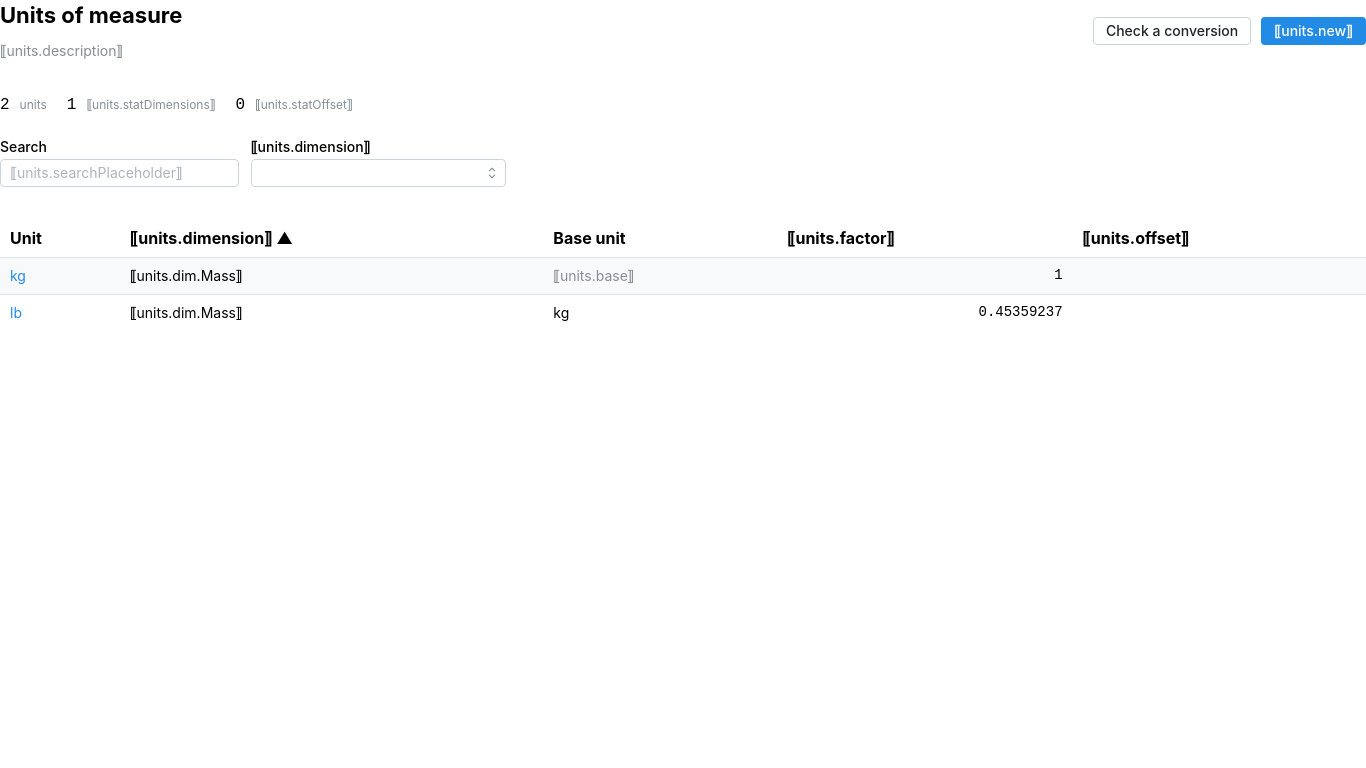
Test: UnitsPage: видалення одиниці (BE-15) › діалог називає одиницю, фокус на «Cancel», і перевірка видима, а не порожнеча (X-23)
Click the button "lb".
click(16, 313)  # box x1=10 y1=303 x2=22 y2=323
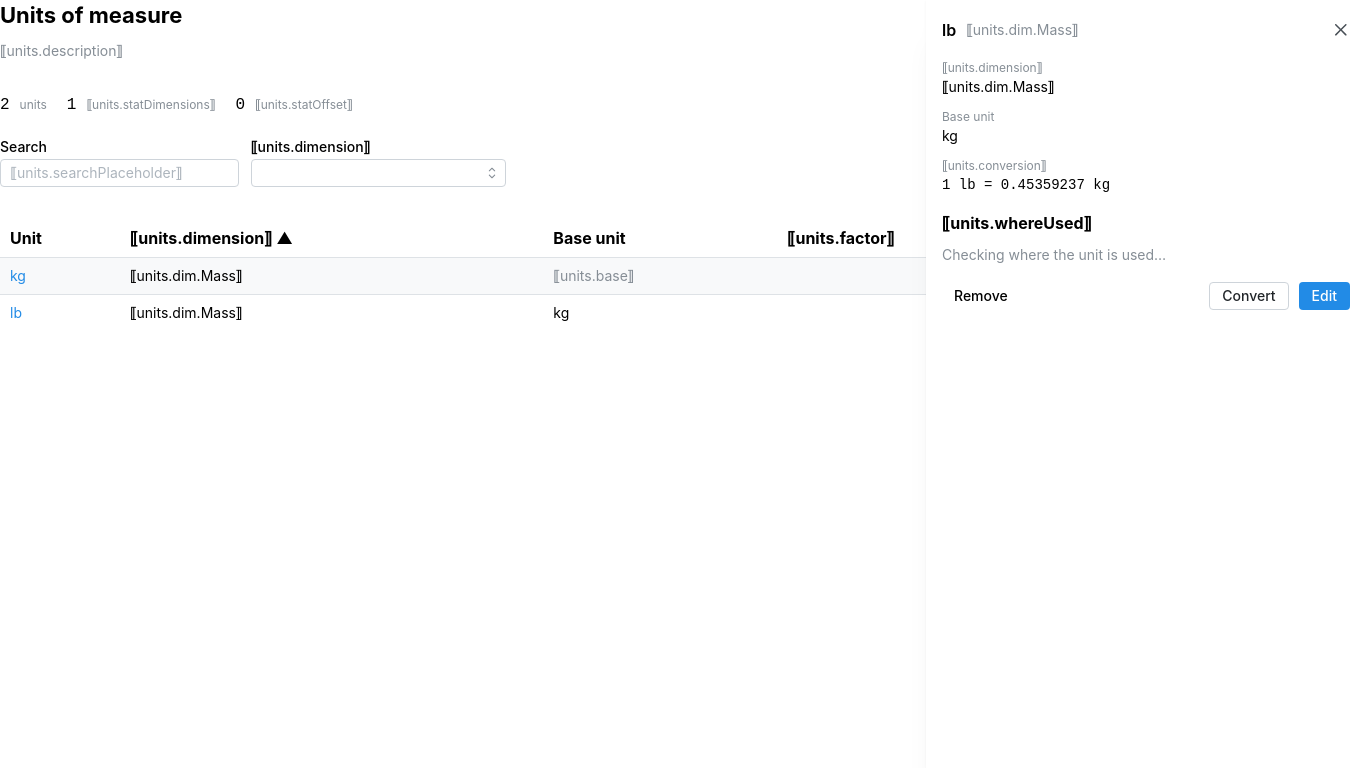
Click the button "Remove".
click(981, 296)  # box x1=942 y1=282 x2=1020 y2=310
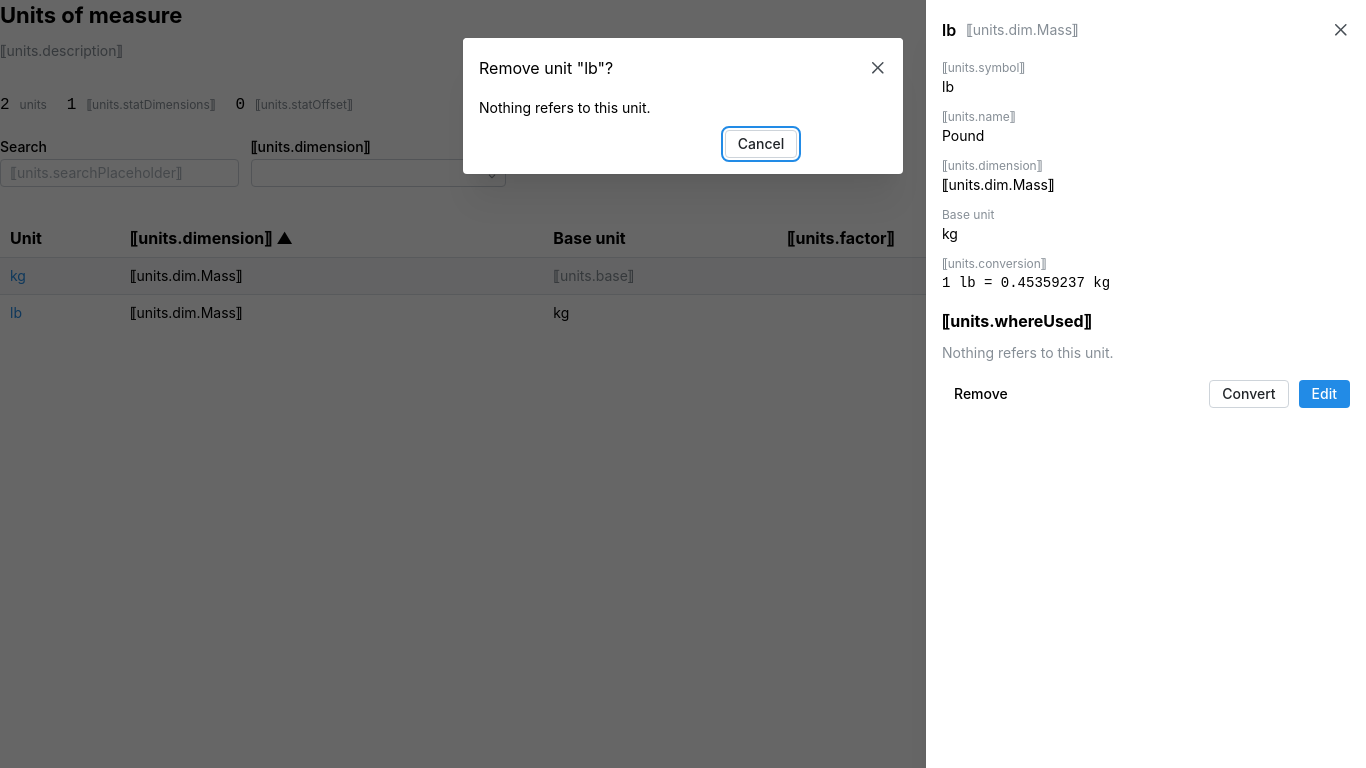
Now the heading "Remove unit \"lb\"?" is shown, box x1=479 y1=60 x2=613 y2=76
Now the text "Nothing refers to this unit." below "Remove unit \"lb\"?" is shown, box x1=479 y1=99 x2=651 y2=116
